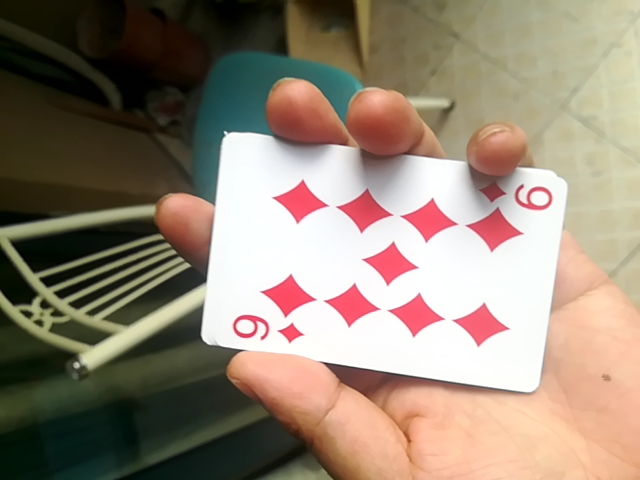fk 9: (191, 137, 577, 398)
